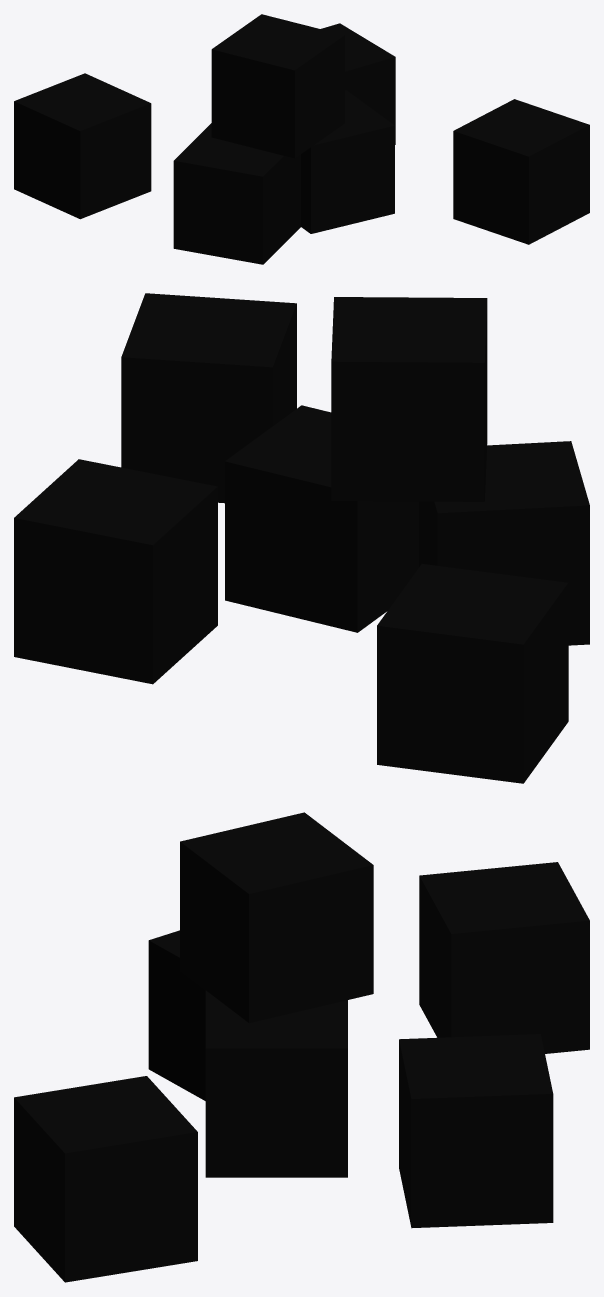
The model's file is SM_toy_blocks.fbx.
3 renders of one model, top to bottom at view 1: azimuth 30°, elevation 25°; view 2: azimuth 150°, elevation 25°; view 3: azimuth 270°, elevation 25°, orthographic. The views are drawn at different scales.
Parts seen in each view (by area): view 1: toy_blocks; view 2: toy_blocks; view 3: toy_blocks.
Boxes of the visible parts, x1,y1,x2,y2 form: toy_blocks: [14, 14, 589, 264]; toy_blocks: [14, 293, 589, 783]; toy_blocks: [14, 812, 589, 1282].
Size of the model in its own units: 0.2423 by 0.1 by 0.2023.
